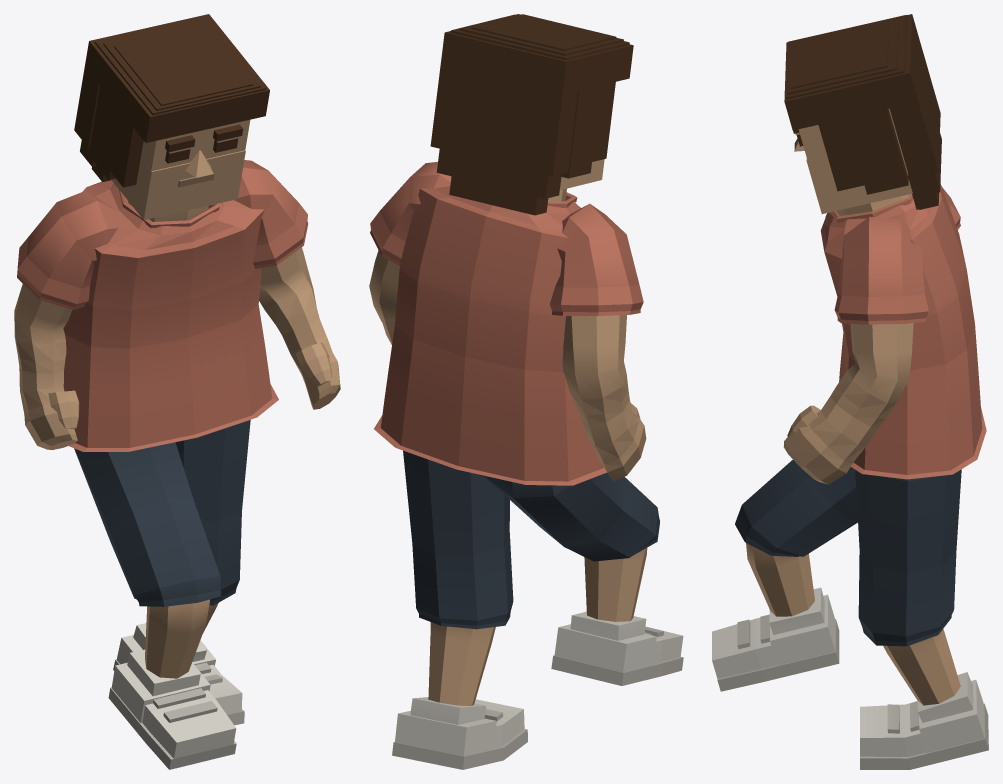
The model's file is neighborhood-child-8cc5ac__walk3.glb.
The picture shows the model from 3 angles, left to right: view 1: azimuth 30°, elevation 25°; view 2: azimuth 150°, elevation 25°; view 3: azimuth 270°, elevation 25°; orthographic projection. The views are drawn at different scales.
Visible parts, largest first — view 1: neighborhood-child-8cc5ac__walk3; view 2: neighborhood-child-8cc5ac__walk3; view 3: neighborhood-child-8cc5ac__walk3.
Boxes of the visible parts, x1,y1,x2,y2 form: neighborhood-child-8cc5ac__walk3: (14,14,340,769); neighborhood-child-8cc5ac__walk3: (369,14,683,769); neighborhood-child-8cc5ac__walk3: (712,14,988,769).
Bounding box in the file's own units: 0.484 × 1.19 × 0.4289.
